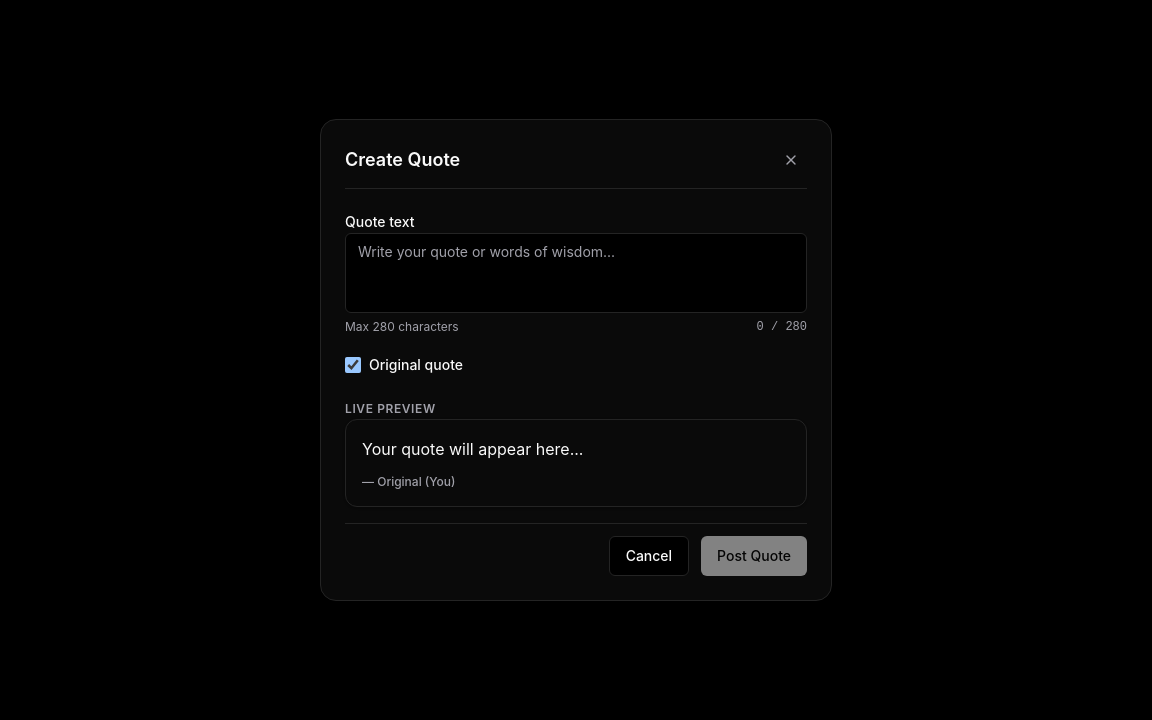
Test: Quote Composer Validation and Invariants › renders live styled preview reflecting typed text (PRD §12.1, §61)
Expected: the element with test id "composer-live-preview" is shown, [345,419,807,507]
Expected: the text "Your quote will appear here..." is shown, [362,439,584,459]
Type "Knowledge speaks, but wisdom listens." into the text box labelled "Quote text".
click(576, 273); type("Knowledge speaks, but wisdom listens.")  # box [345,233,807,313]
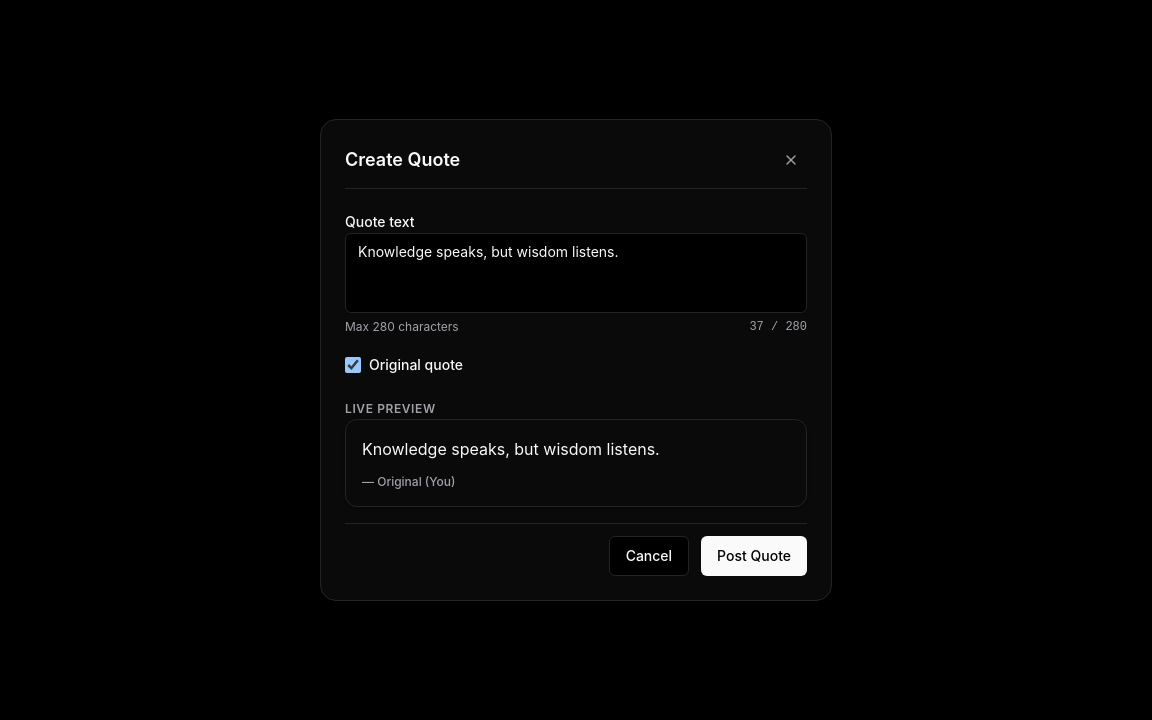
Expected: the text "— Original (You)" is shown, [362,474,456,489]
Now the text "Knowledge speaks, but wisdom listens." is shown, box [362,439,660,459]
